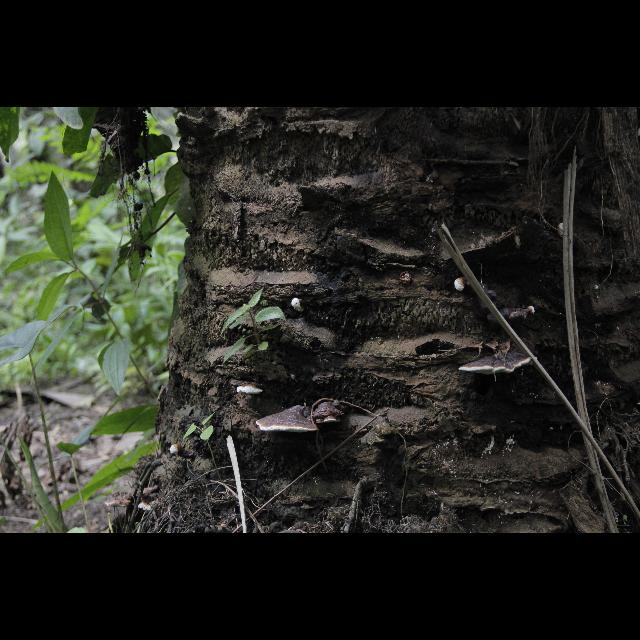ganoderma: (469, 281, 528, 328), (460, 350, 539, 377), (257, 406, 319, 434), (312, 402, 346, 425), (106, 493, 135, 509), (238, 384, 265, 396), (139, 498, 155, 513)
primordium: (292, 300, 306, 314), (455, 278, 468, 292), (171, 446, 183, 459), (559, 223, 565, 240), (528, 307, 536, 317)
